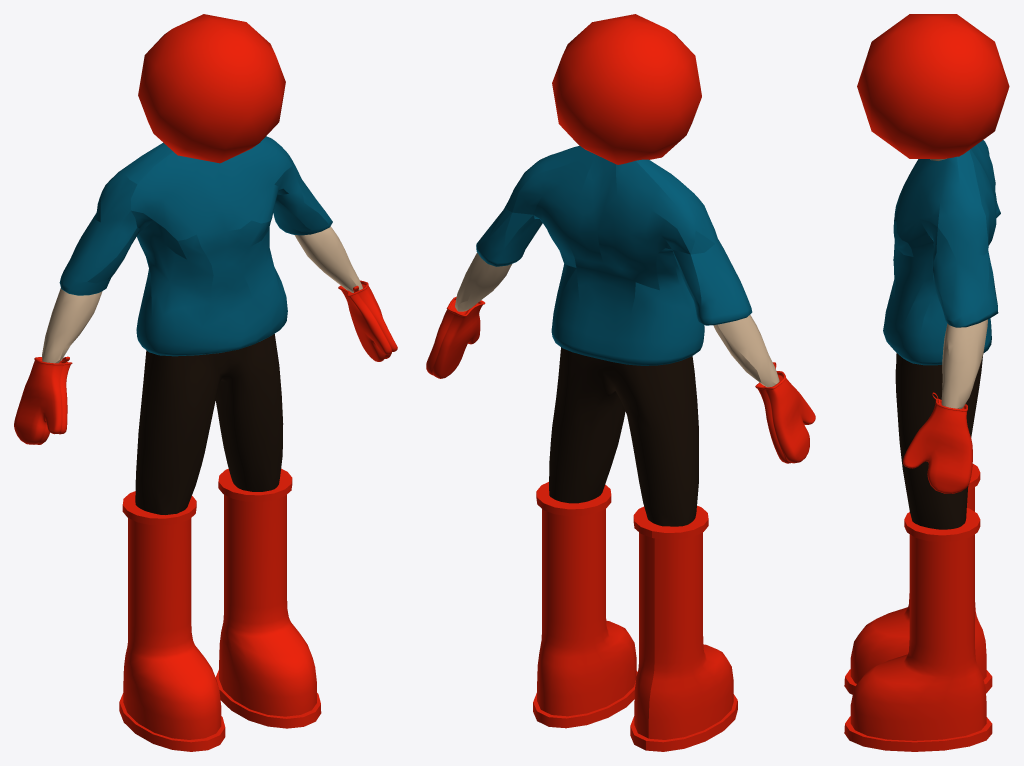
The model's file is MP_Playermodel.fbx.
3 views of the same model, side by side, from view 1: azimuth 30°, elevation 25°; view 2: azimuth 150°, elevation 25°; view 3: azimuth 270°, elevation 25° (orthographic).
Parts seen in each view (by area): view 1: PM_Boots, PM_Shirt, PM_Pants, PM_Head, PM_Gloves, PM_Skin; view 2: PM_Shirt, PM_Boots, PM_Pants, PM_Head, PM_Gloves, PM_Skin; view 3: PM_Boots, PM_Shirt, PM_Head, PM_Pants, PM_Gloves, PM_Skin.
Boxes of the visible parts, left/top/right/bottom form: PM_Boots: left=119, top=468, right=321, bottom=751; PM_Shirt: left=59, top=136, right=332, bottom=356; PM_Pants: left=135, top=334, right=283, bottom=514; PM_Head: left=138, top=14, right=285, bottom=163; PM_Gloves: left=14, top=280, right=397, bottom=444; PM_Skin: left=42, top=226, right=362, bottom=363; PM_Shirt: left=476, top=145, right=752, bottom=365; PM_Boots: left=533, top=482, right=737, bottom=751; PM_Pants: left=549, top=347, right=698, bottom=526; PM_Head: left=552, top=14, right=701, bottom=164; PM_Gloves: left=426, top=297, right=815, bottom=463; PM_Skin: left=455, top=253, right=779, bottom=387; PM_Boots: left=844, top=464, right=992, bottom=751; PM_Shirt: left=883, top=140, right=1000, bottom=365; PM_Head: left=857, top=14, right=1009, bottom=158; PM_Pants: left=895, top=353, right=982, bottom=529; PM_Gloves: left=903, top=392, right=972, bottom=493; PM_Skin: left=930, top=158, right=987, bottom=408.
Size of the model in its own units: 97.89 by 176 by 38.08.
